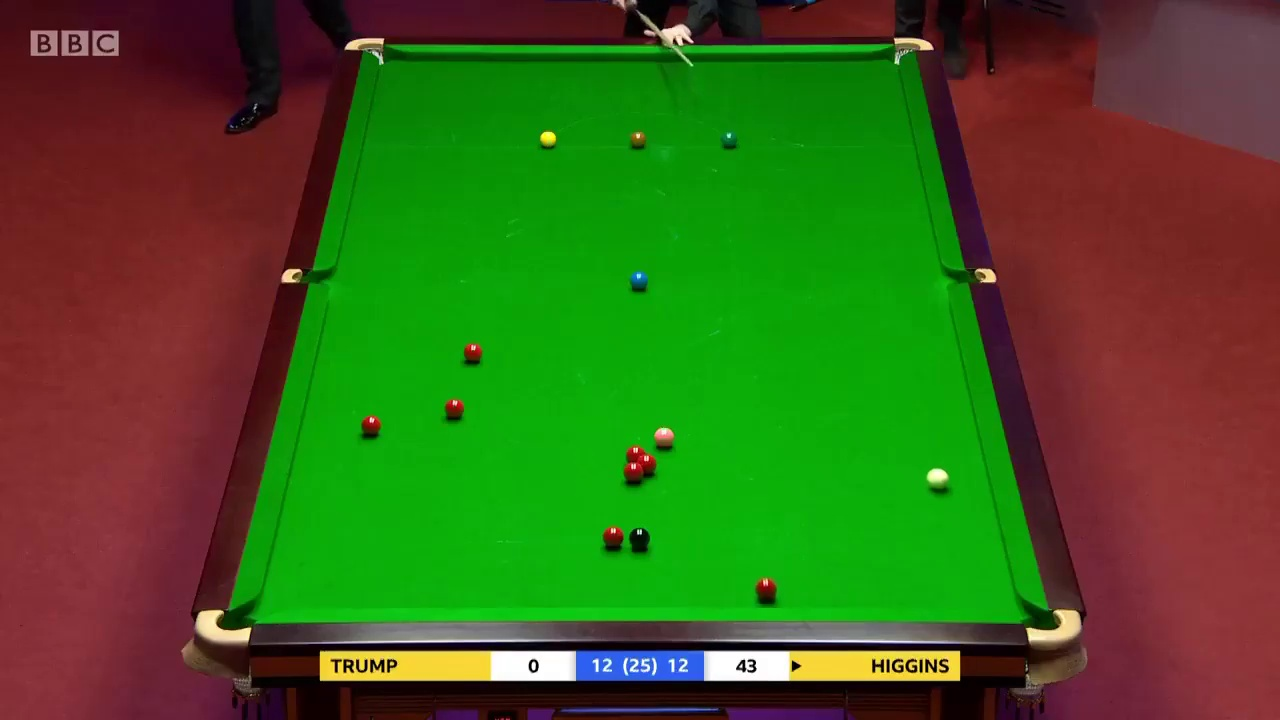black: (629, 530, 649, 550)
blue: (629, 272, 647, 289)
brown: (629, 129, 648, 148)
green: (720, 129, 738, 149)
pink: (655, 428, 673, 452)
red: (603, 526, 623, 552), (755, 580, 779, 601), (445, 396, 465, 419), (360, 416, 379, 436), (625, 462, 643, 483), (461, 342, 481, 360)
white: (925, 466, 950, 491)
yellow: (542, 130, 558, 148)
